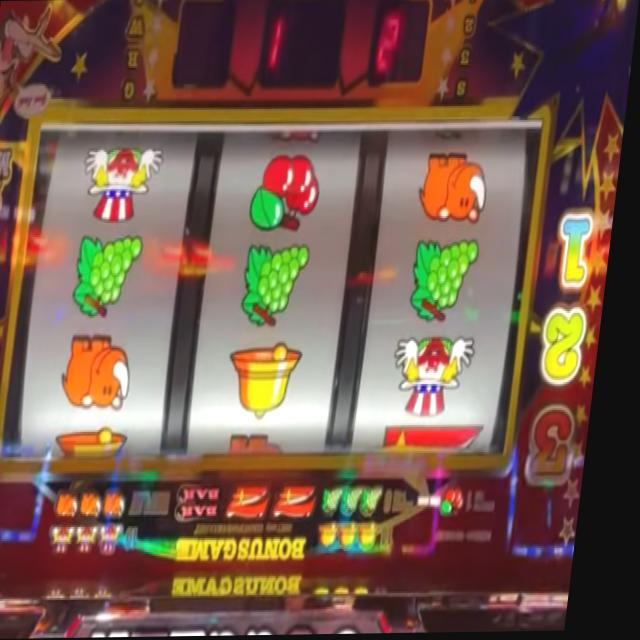bar: (185, 484, 234, 523)
bell: (231, 339, 312, 422), (62, 427, 141, 459), (369, 517, 392, 553), (349, 519, 370, 553), (329, 522, 351, 553)
cherry: (251, 153, 334, 232), (452, 485, 478, 519)
clown: (396, 335, 487, 420), (80, 140, 168, 224), (109, 523, 136, 559), (62, 528, 89, 558), (87, 526, 111, 559)
display: (8, 116, 549, 467)
elephant: (66, 332, 144, 413), (419, 153, 496, 230), (233, 430, 297, 460), (91, 487, 114, 521), (66, 490, 91, 521), (114, 489, 139, 518)
grape: (75, 225, 150, 321), (412, 236, 488, 326), (243, 243, 317, 330), (371, 485, 396, 517), (332, 486, 354, 520), (352, 484, 374, 515)
z: (383, 420, 496, 457), (283, 479, 329, 521), (237, 480, 282, 521)
